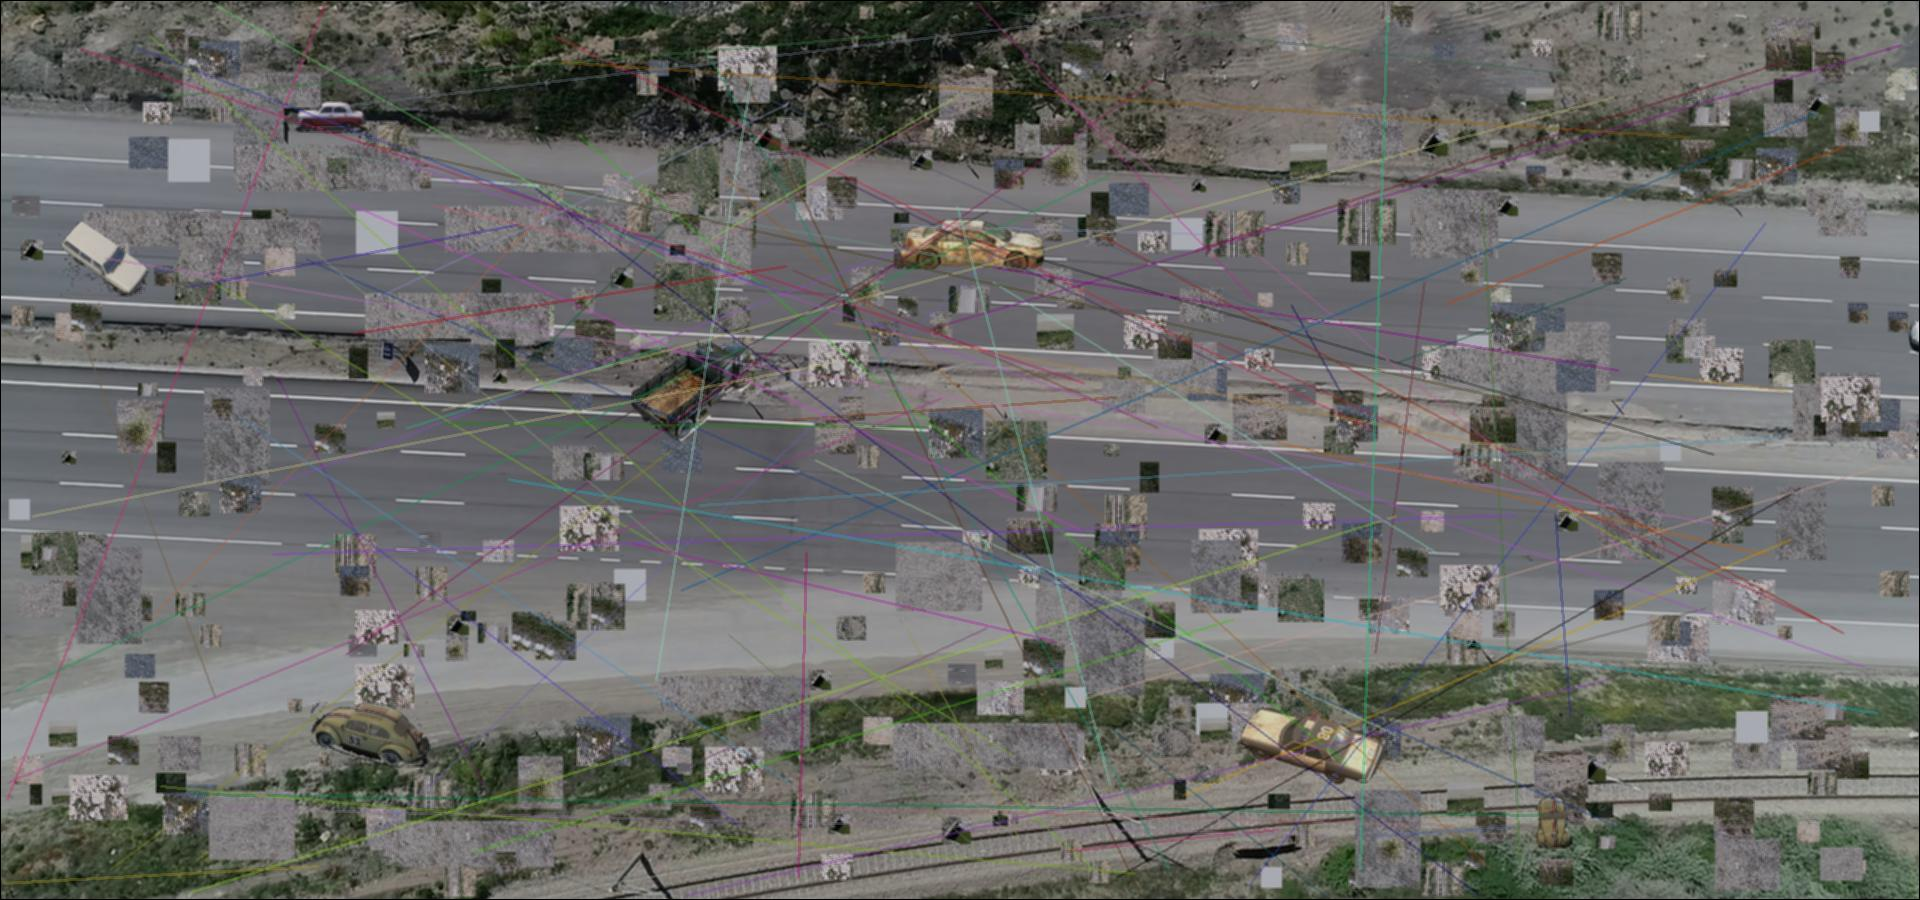arac: (632, 334, 758, 441), (1240, 702, 1385, 785), (898, 218, 1051, 271), (311, 702, 430, 767), (59, 222, 149, 296), (295, 102, 367, 133), (1536, 797, 1573, 849)
